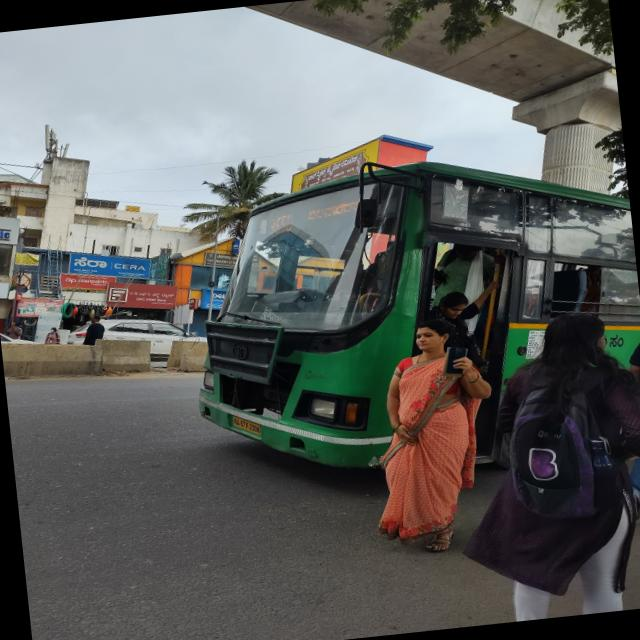bus: (181, 142, 640, 490)
display: (252, 196, 378, 239), (268, 212, 296, 235)
